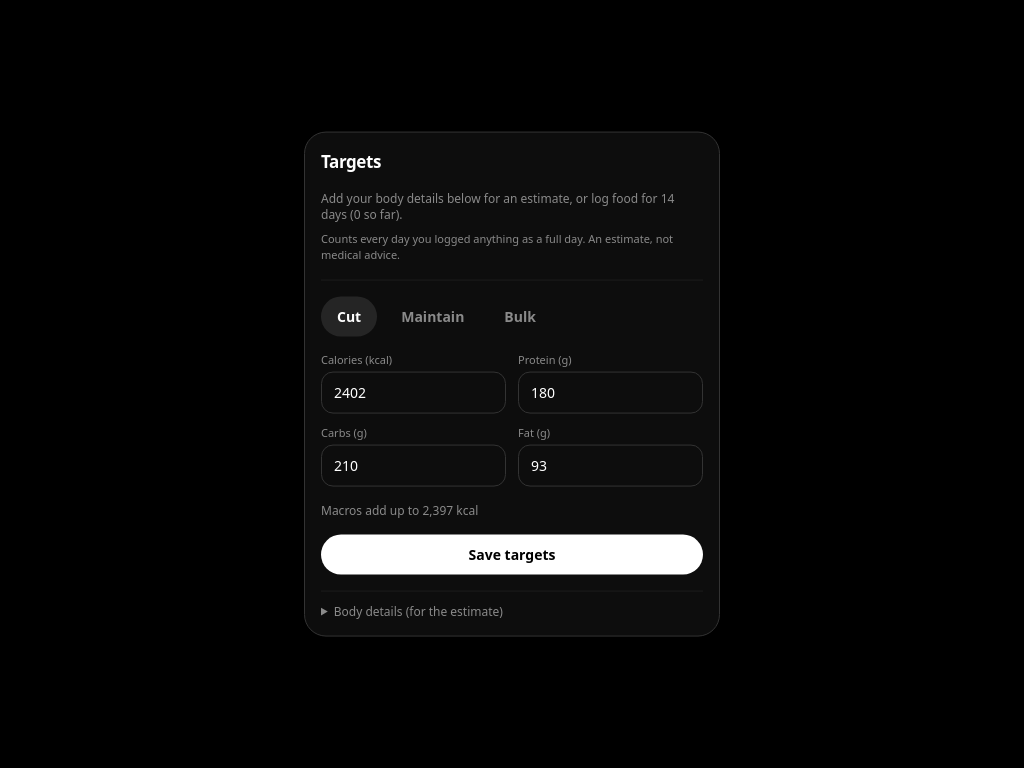
Test: TargetsSheet › waits for the profile before saving details
This screenshot has width=1024, height=768.
Click the heading "Body details (for the estimate)" at (418, 611), box [334,602,503,619]
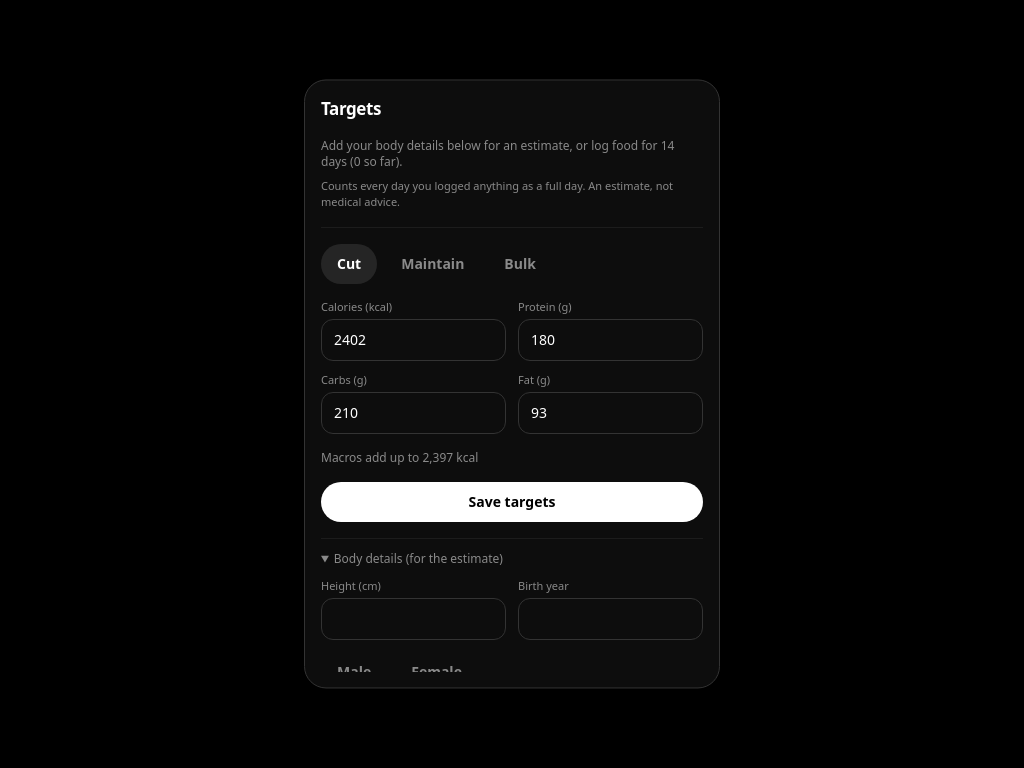
Type "180" into the field labelled "Height (cm)" at (414, 620), box [321,598,506,640]
(page scrolled)
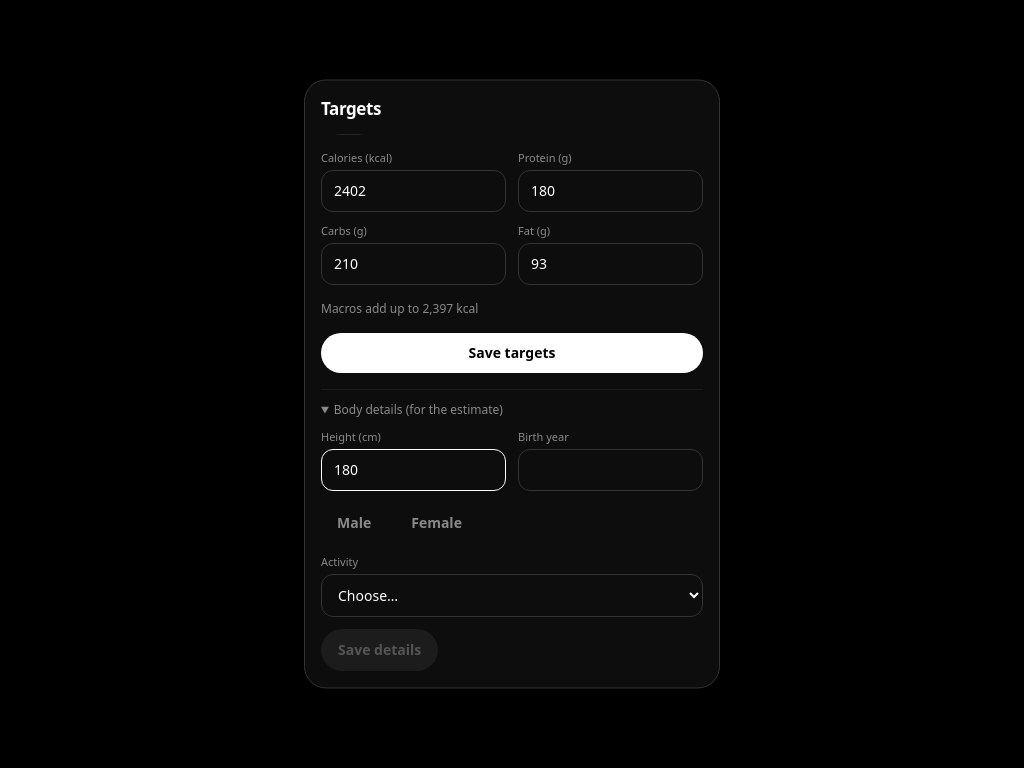
Result: the button "Save details" is disabled at [321,630,438,672]
